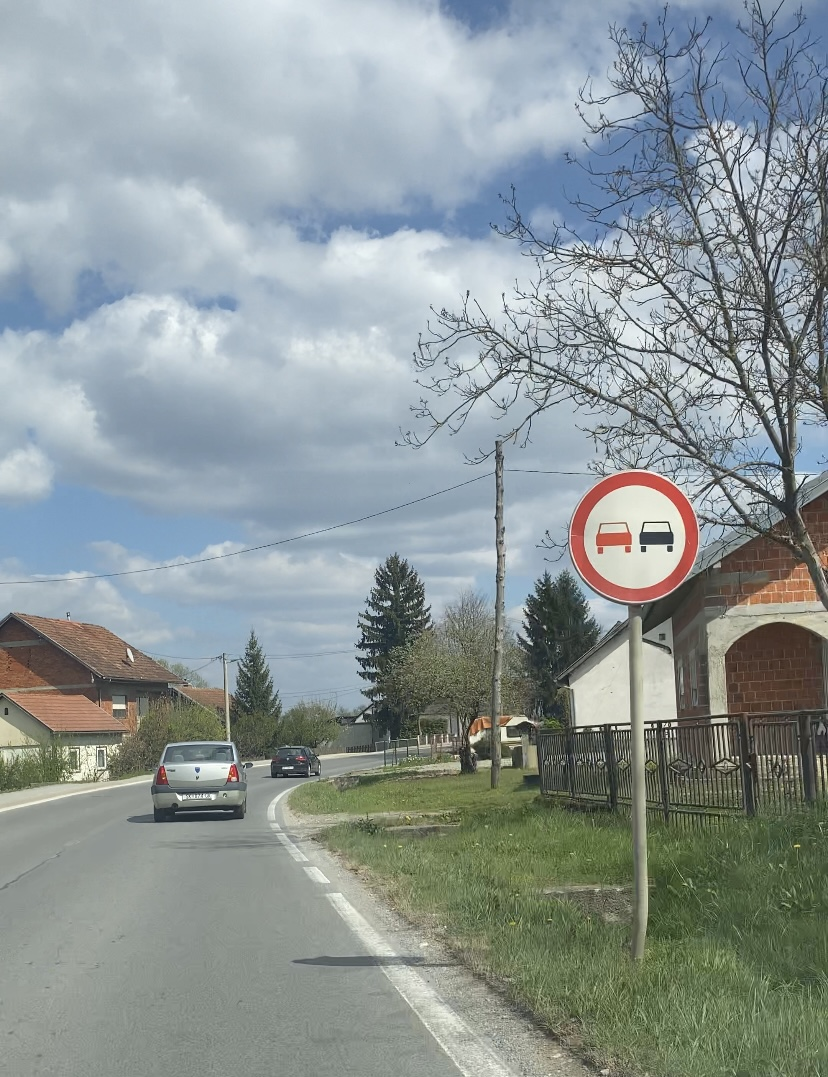Zabrana pretjecanja: (568, 470, 699, 604)
